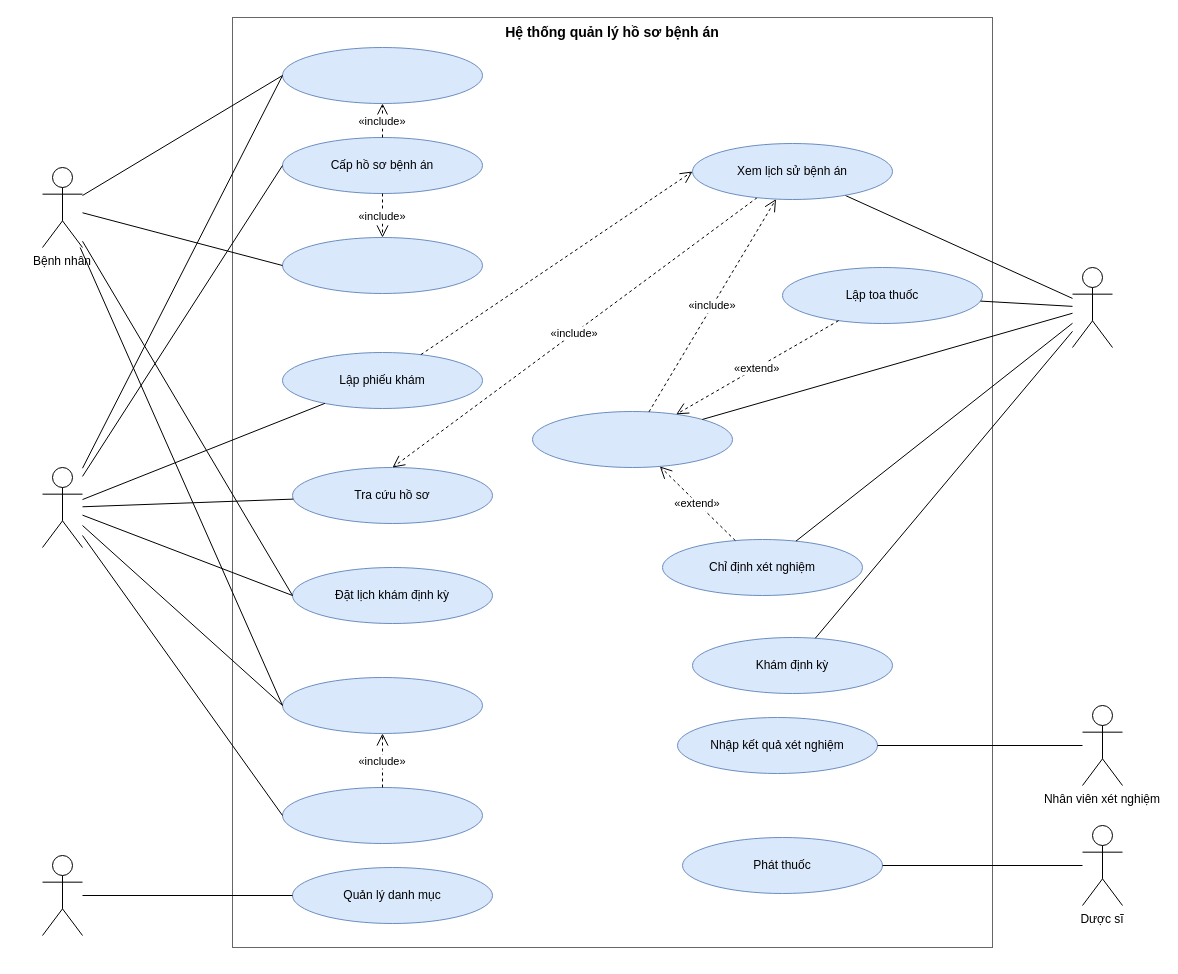
This 1178x974 diagram has some shape labels left out. The centre of each missing label's shape, as x and y in pixels:
Bác sĩ: the point at 1092,307
Ghi nhận đợt điều trị: the point at 382,815
Khám bệnh: the point at 632,439
Nhân viên CSKH: the point at 62,507
Quản trị viên: the point at 62,895
Thanh toán viện phí: the point at 382,705
Đóng lệ phí năm: the point at 382,265
Đăng ký bệnh nhân: the point at 382,75
